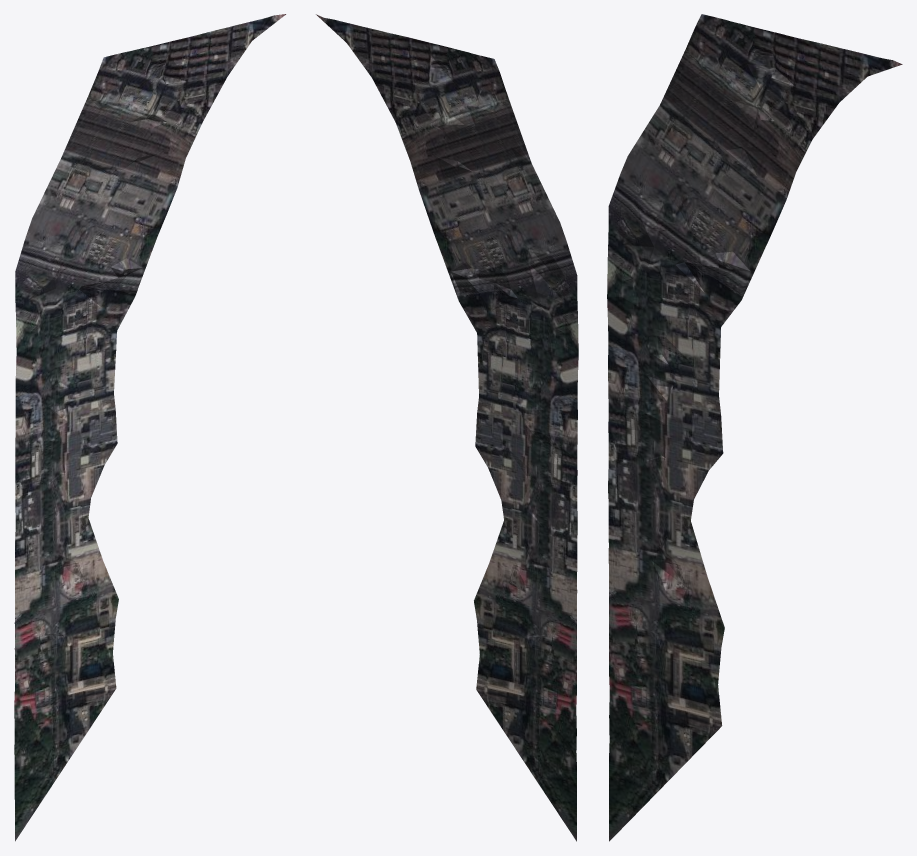
The picture shows the model from 3 angles, left to right: view 1: azimuth 30°, elevation 25°; view 2: azimuth 150°, elevation 25°; view 3: azimuth 330°, elevation 25°; orthographic projection. The views are drawn at different scales.
Parts seen in each view (by area): view 1: 0_0_2_0; view 2: 0_0_2_0; view 3: 0_0_2_0.
Boxes of the visible parts, x1=… form: 0_0_2_0: x1=14, y1=14, x2=285, y2=841; 0_0_2_0: x1=316, y1=14, x2=578, y2=841; 0_0_2_0: x1=607, y1=14, x2=902, y2=841.
Bounding box in the file's own units: 631 × 1725 × 23.93.
1 material, 1 textured.
